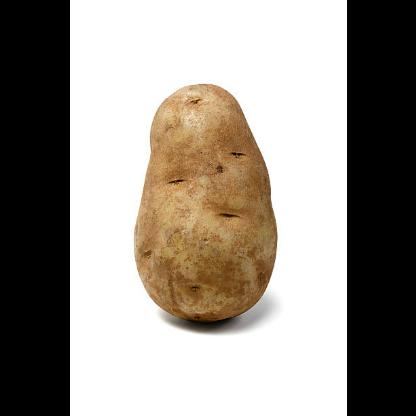potato: (132, 82, 276, 322)
